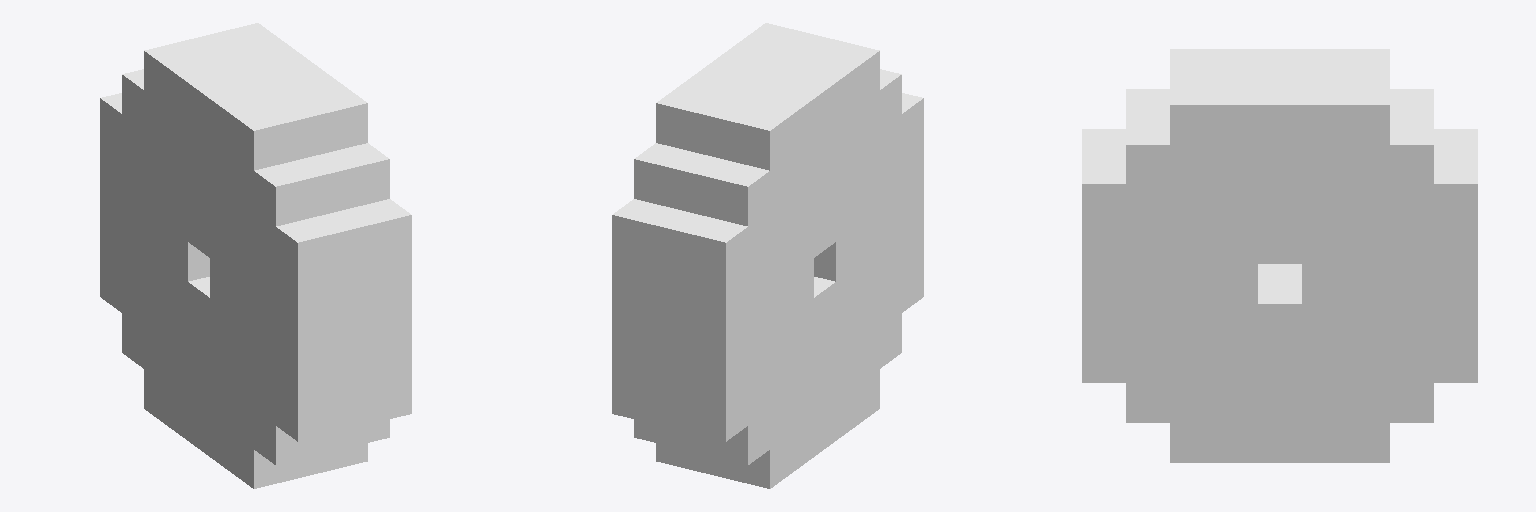
The model's file is Eruption-23.obj.
3 views of the same model, side by side, from view 1: azimuth 30°, elevation 25°; view 2: azimuth 150°, elevation 25°; view 3: azimuth 270°, elevation 25° (orthographic).
Parts seen in each view (by area): view 1: object 1; view 2: object 1; view 3: object 1.
Boxes of the visible parts, box(x1,y1,x2,y2) form: object 1: box(100, 23, 411, 488); object 1: box(612, 23, 923, 488); object 1: box(1082, 49, 1477, 462).
Bounding box in the file's own units: 0.3 × 0.9 × 0.9.